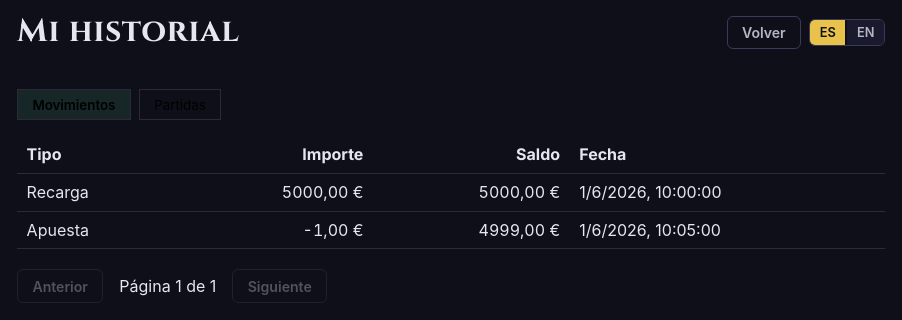
Test: PlayerHistoryPage (HU-14) › AC2: switching to the rounds tab shows the player rounds
The image size is (902, 320).
Click the button "Partidas": (180, 105) [139,89,221,120]
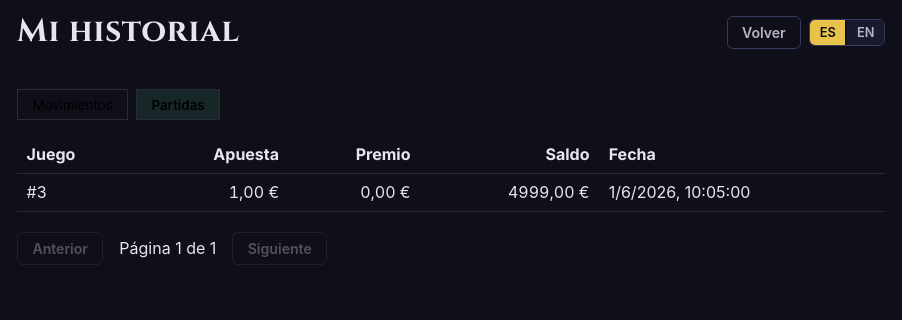
expect the text "#3" is shown: met, box [17,173,138,211]
